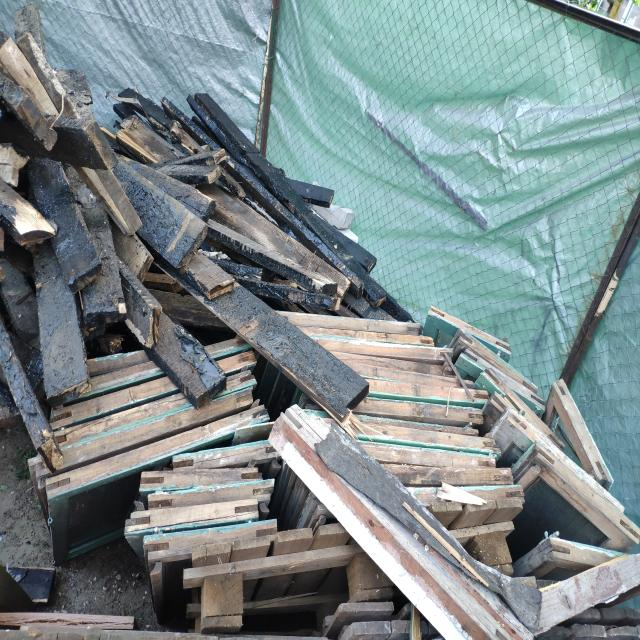entulho: (151, 232, 372, 421), (283, 478, 532, 640), (144, 524, 363, 640), (39, 358, 228, 480), (527, 372, 638, 552), (48, 439, 178, 567), (399, 480, 530, 576), (268, 312, 460, 376), (103, 162, 208, 271), (31, 242, 93, 406), (0, 327, 66, 475), (121, 501, 264, 567), (67, 118, 143, 235), (189, 92, 281, 183), (468, 368, 564, 455), (0, 28, 66, 152), (534, 549, 638, 627), (423, 304, 514, 374), (121, 86, 200, 163), (138, 468, 280, 508), (328, 589, 420, 640), (40, 114, 123, 170), (0, 173, 58, 246), (172, 442, 282, 473), (484, 408, 537, 470), (0, 608, 137, 629), (0, 261, 40, 328), (271, 185, 341, 221)
